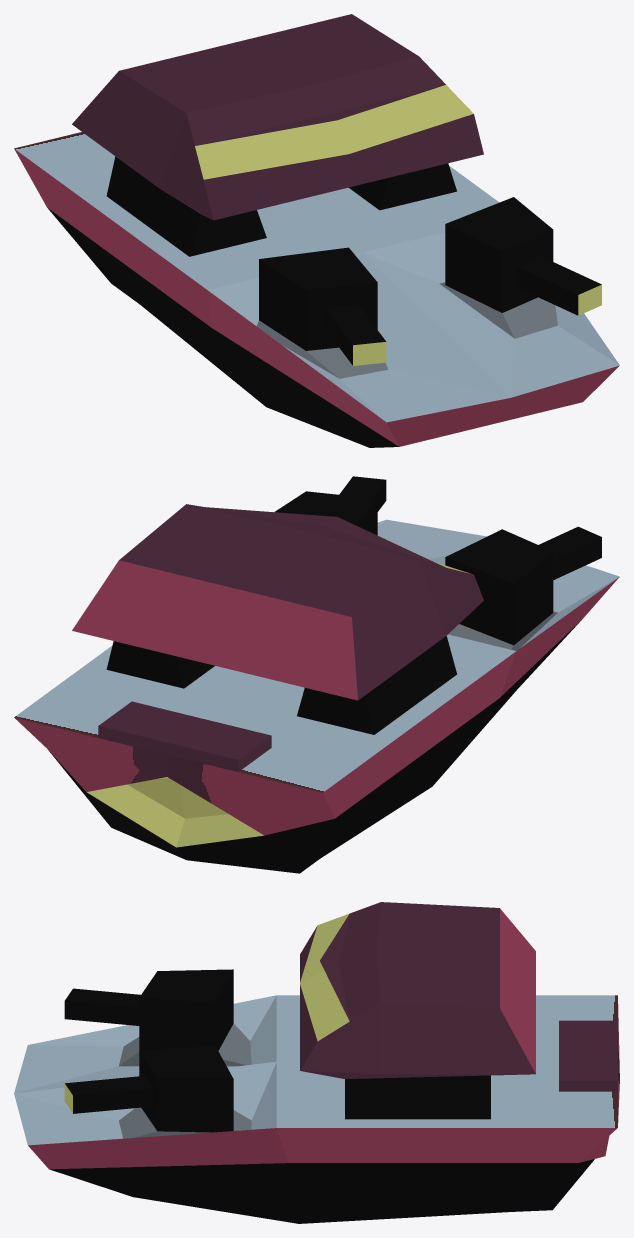
File: player_ship.glb
The picture shows the model from 3 angles, top to bottom: view 1: azimuth 30°, elevation 25°; view 2: azimuth 150°, elevation 25°; view 3: azimuth 270°, elevation 25°; orthographic projection. The views are drawn at different scales.
Parts seen in each view (by area): view 1: PlayerShip; view 2: PlayerShip; view 3: PlayerShip.
Boxes of the visible parts, bbox=[...] form: PlayerShip: bbox=[14, 14, 619, 447]; PlayerShip: bbox=[14, 476, 619, 873]; PlayerShip: bbox=[14, 902, 619, 1223].
Bounding box in the file's own units: 1.99 × 1.65 × 3.85.
Materials: 1 (1 with a texture image).
